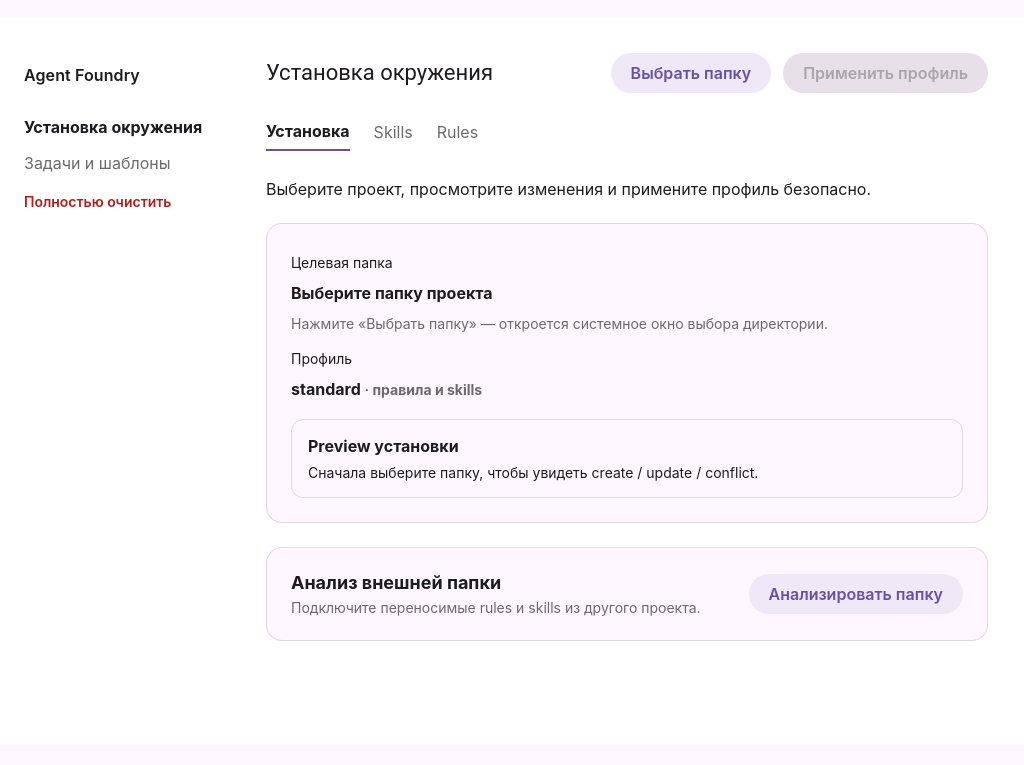
Environment UI › вставляет TaskBlock в позицию курсора редактора задачи
Click the button "Задачи и шаблоны": [115, 163] box [24,153,206,173]
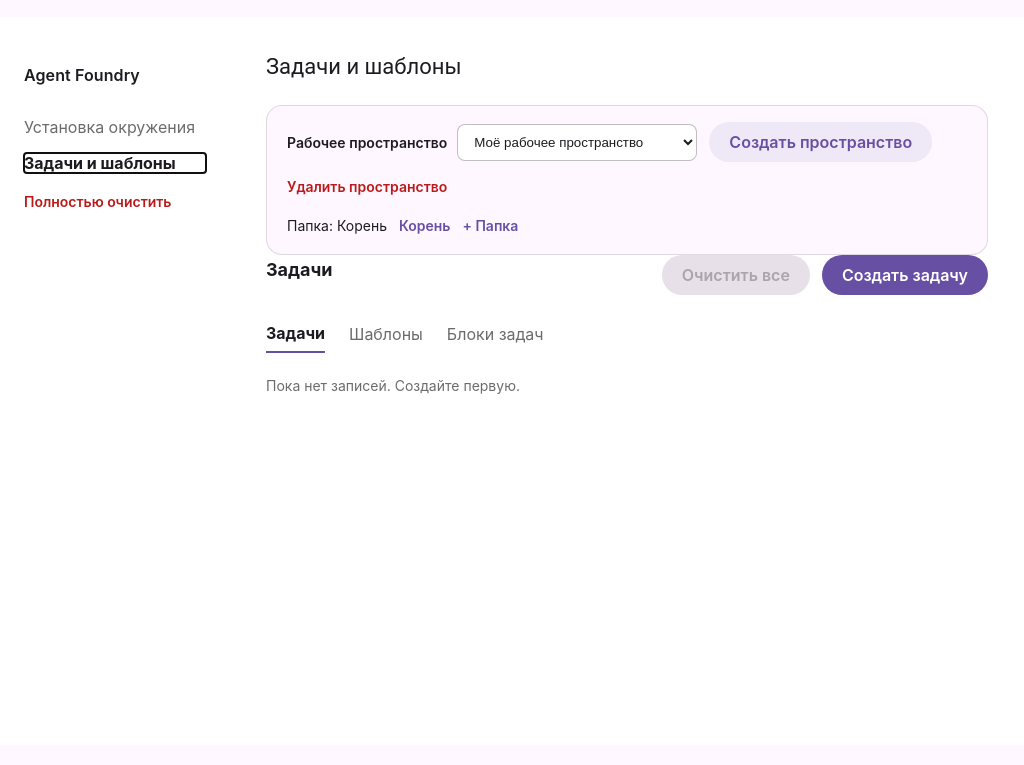
Click the button "Создать задачу": [905, 275] box [822,255,988,295]
(page scrolled)
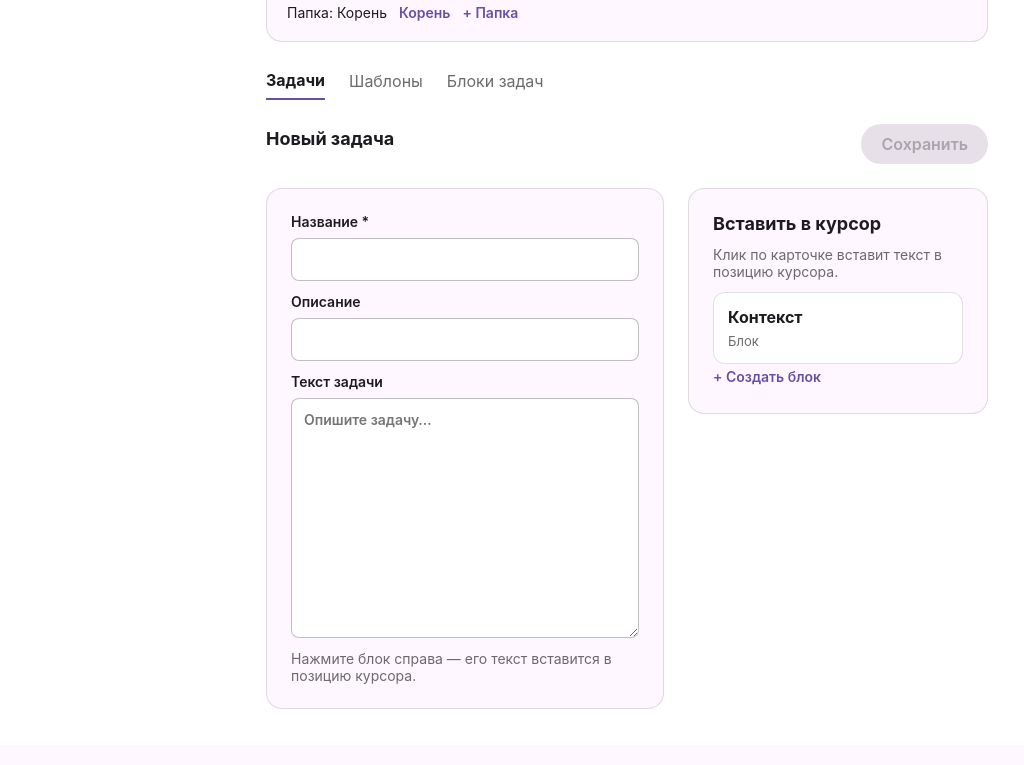
In the text box with placeholder "Опишите задачу…": [465, 518] box [291,398,639,638], type "Начало Конец"
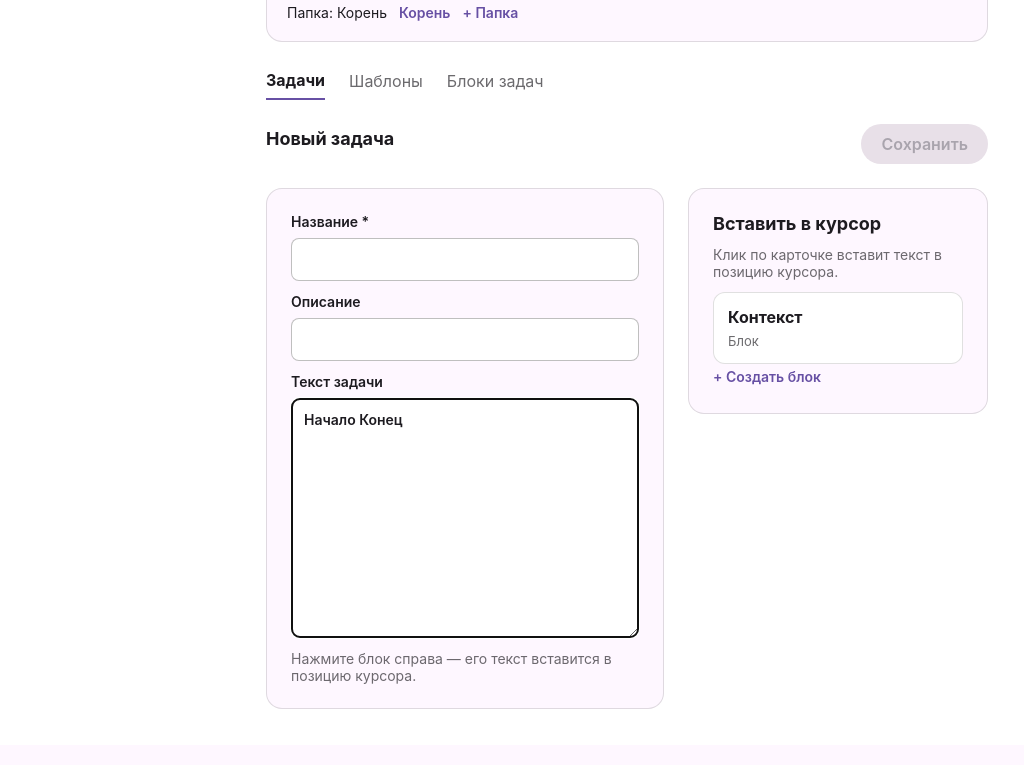
Click the button "Контекст Блок": [838, 328] box [713,292,963,364]
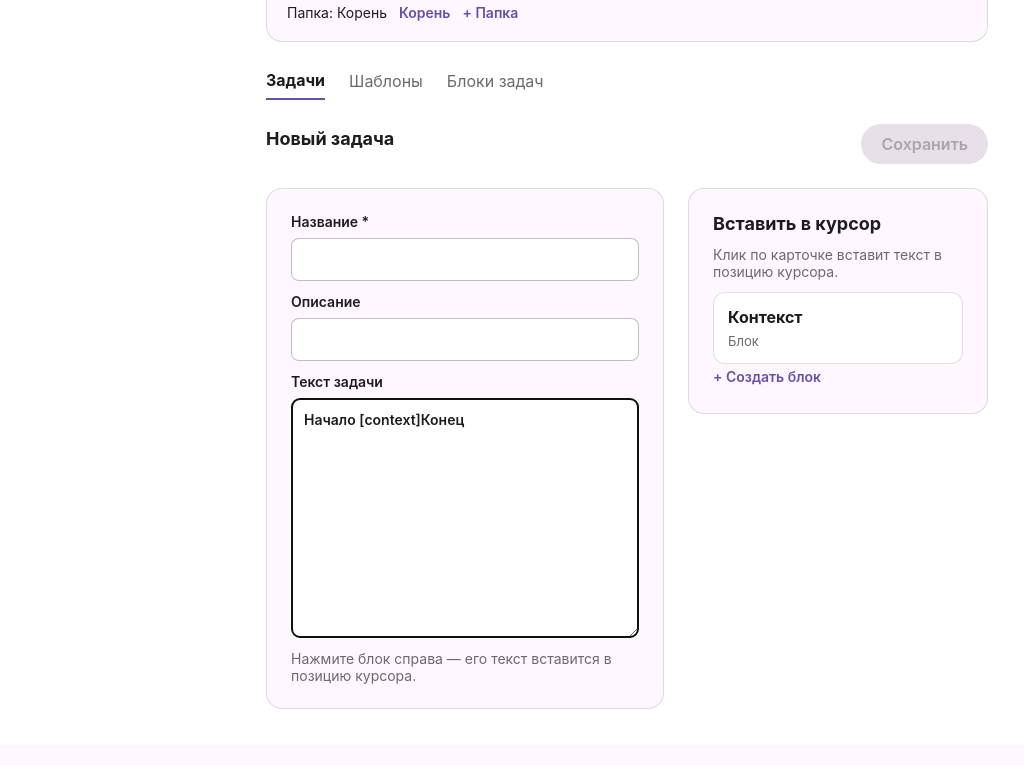
Expected: the text box with placeholder "Опишите задачу…" holds "Начало [context]Конец", [291,398,639,638]
